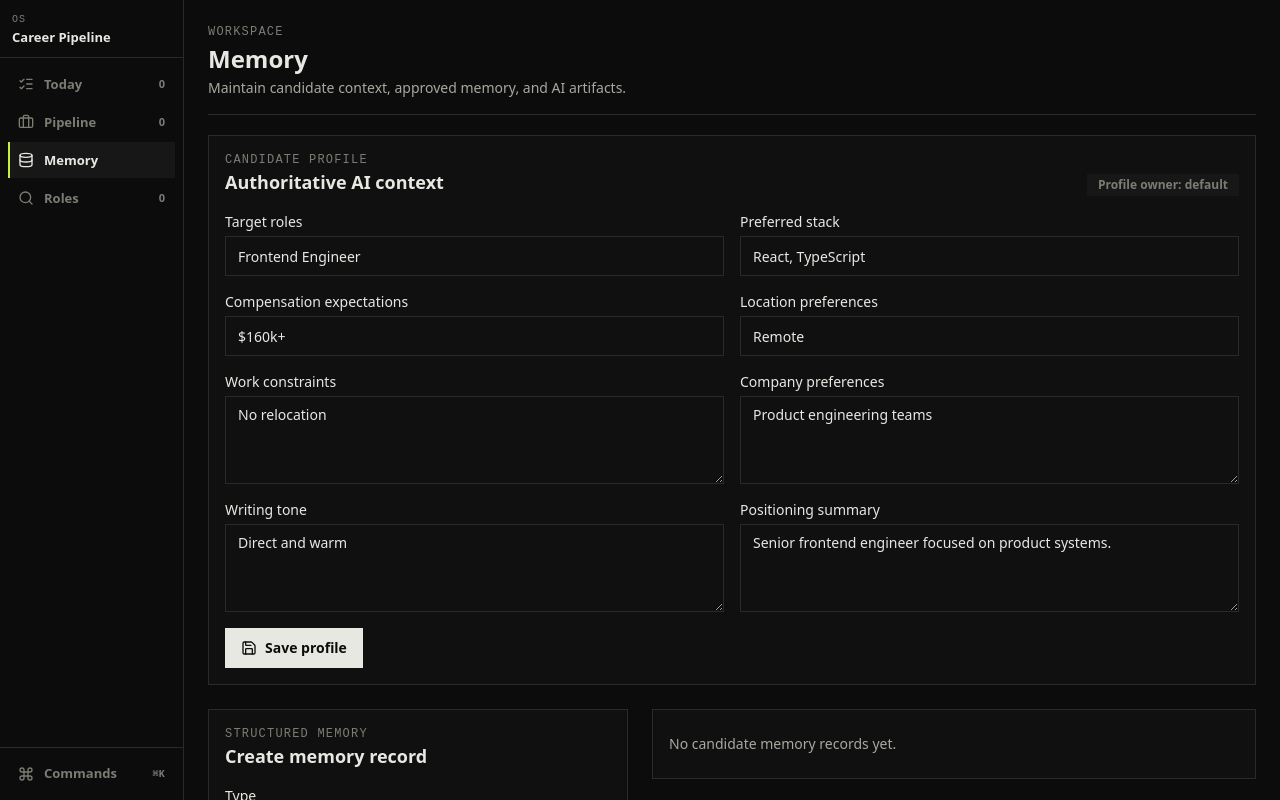
Scenario: Job application tracker shell › opens the add opportunity flow from the command palette
Expected: the navigation bar named "Global navigation" is shown, [0, 0, 184, 799]
Click the button with aria-label "Open command palette" at (92, 774), box [8, 756, 175, 792]
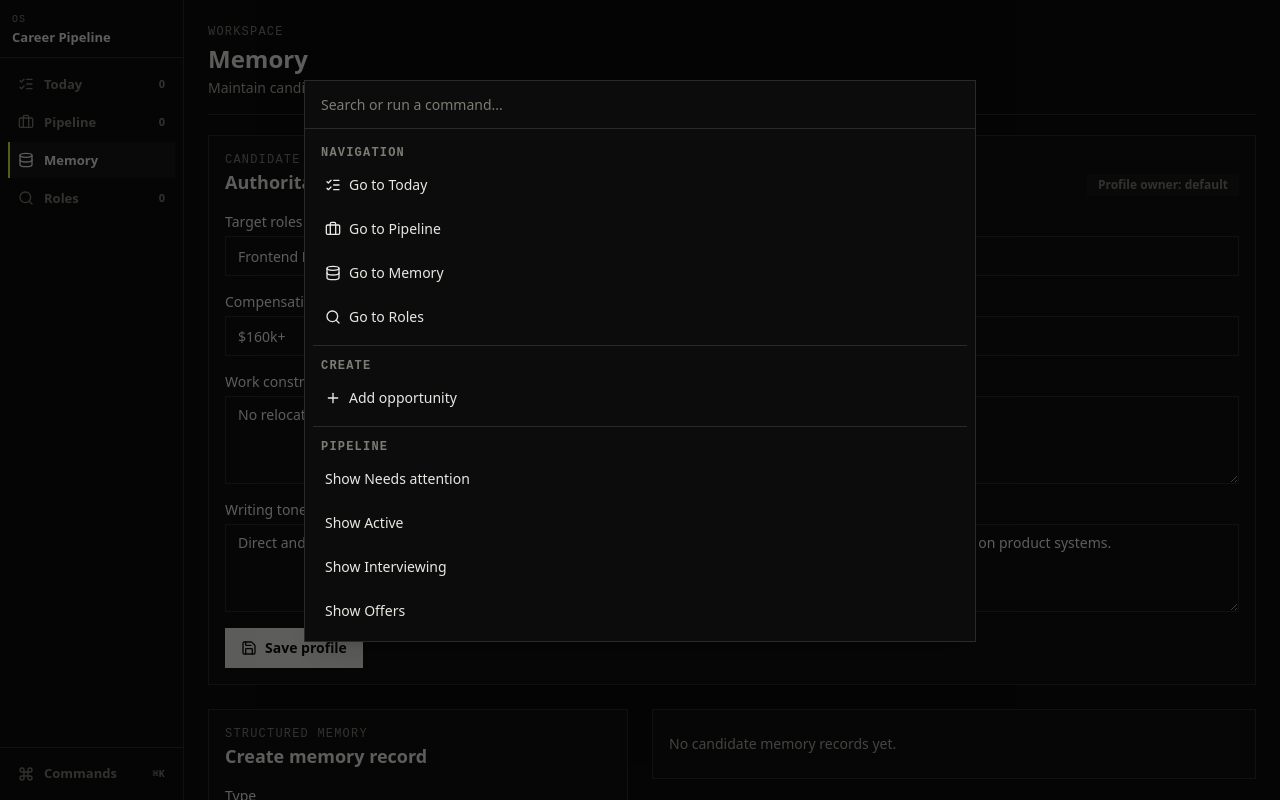
Click the button "Add opportunity" at (403, 398), box [313, 378, 967, 418]
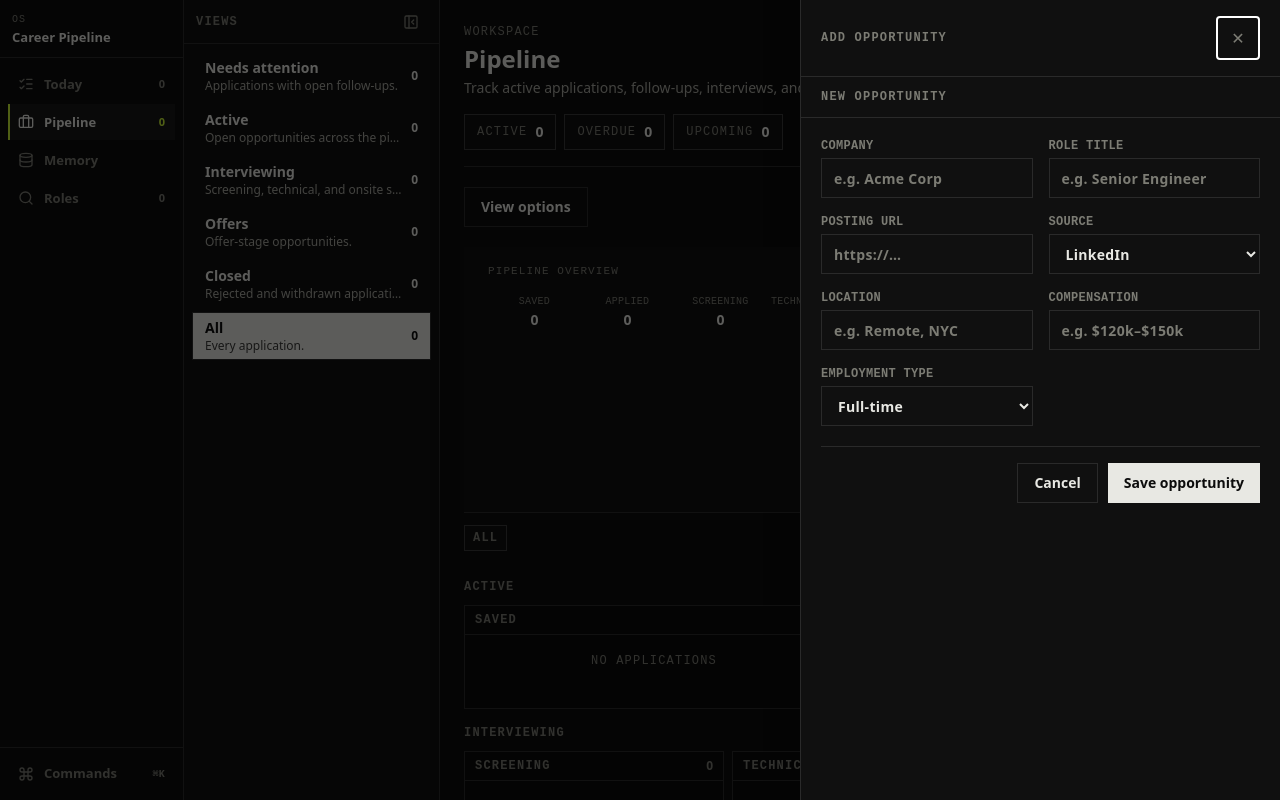
Result: the dialog "Add opportunity" is shown at [800, 0, 1279, 799]
